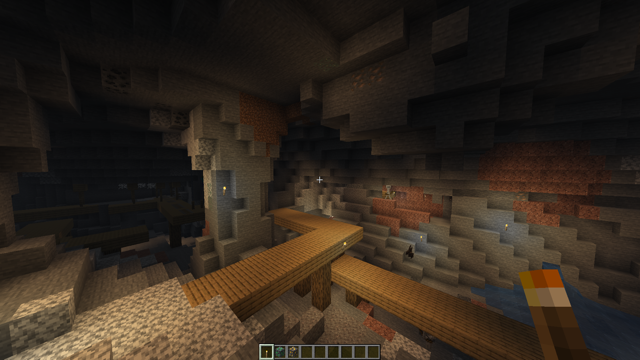coal: (98, 65, 131, 94), (168, 109, 190, 130)
iron: (350, 67, 386, 88), (515, 190, 529, 202)
